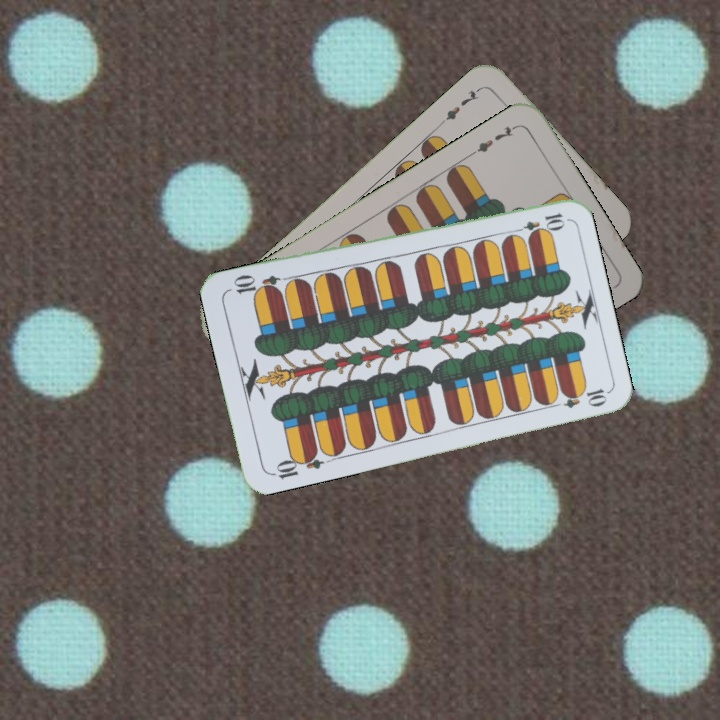E10: (267, 447, 326, 482), (508, 209, 567, 238)
E7: (436, 83, 485, 127), (467, 121, 520, 158)
